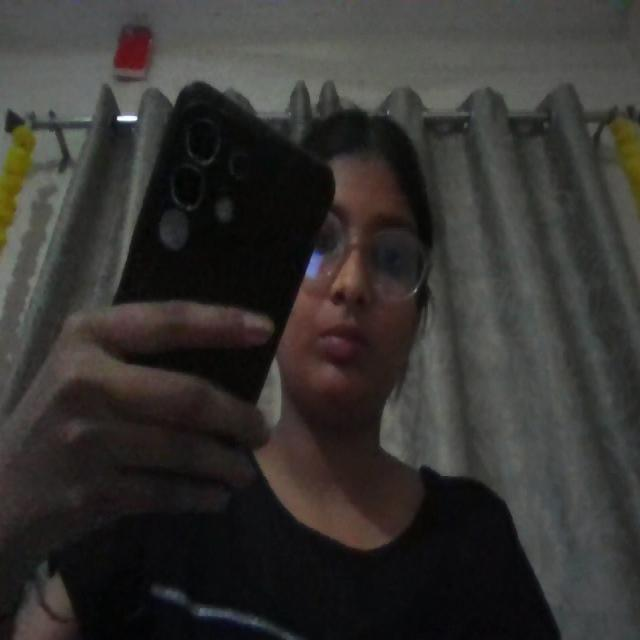phone: (114, 83, 333, 403)
